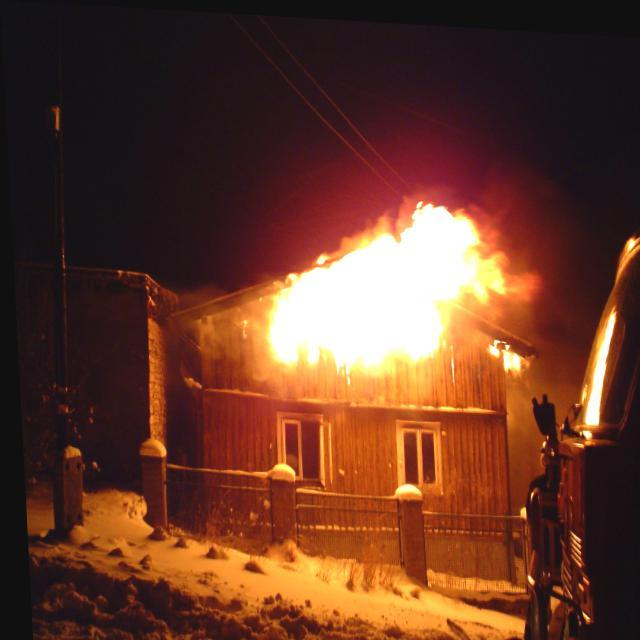Fire: (262, 180, 526, 384)
